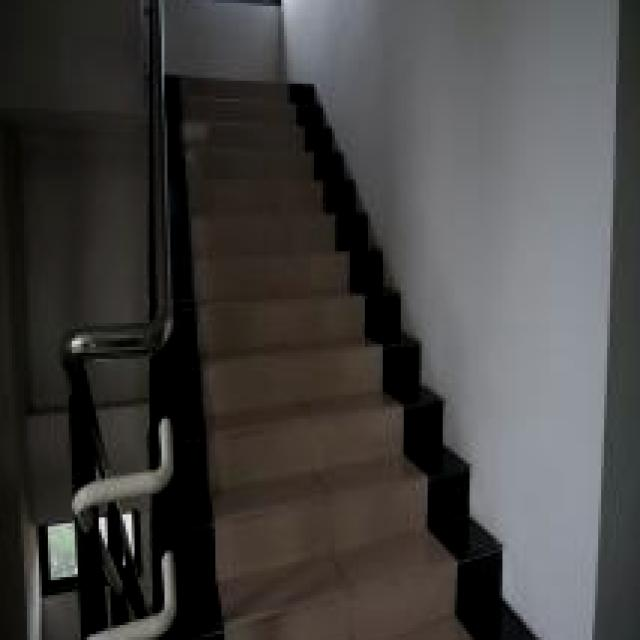upstair: (168, 90, 452, 640)
